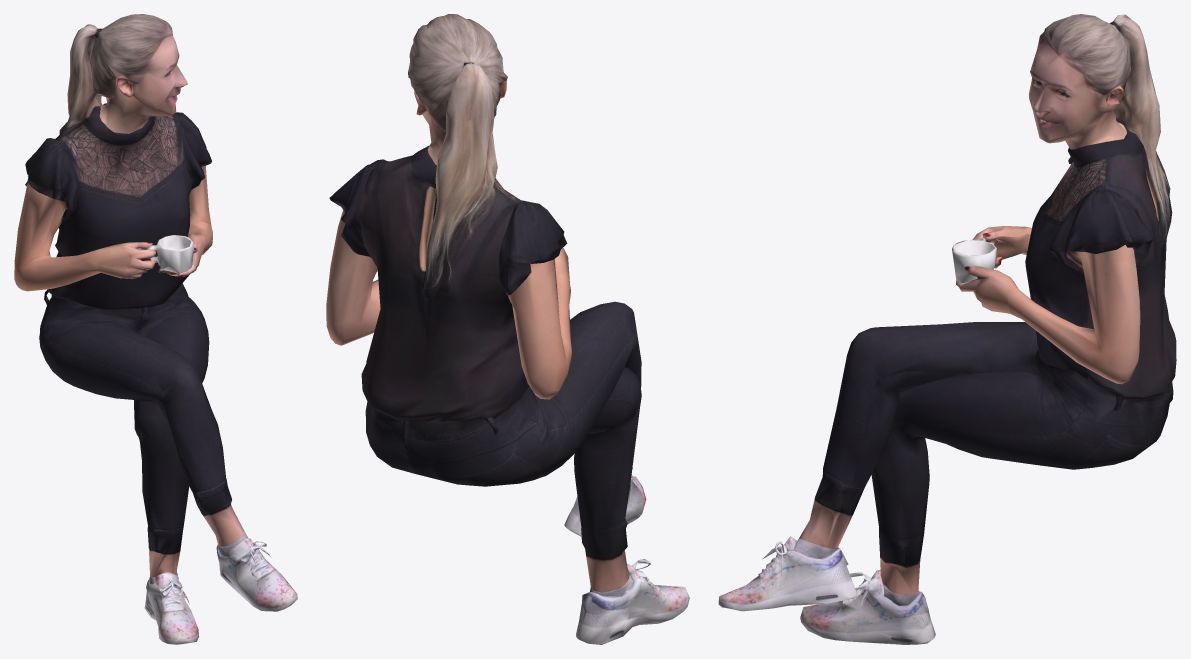
The model's file is seated-scan-2.glb.
3 renders of one model, left to right at view 1: azimuth 30°, elevation 25°; view 2: azimuth 150°, elevation 25°; view 3: azimuth 270°, elevation 25°, orthographic. The views are drawn at different scales.
Parts seen in each view (by area): view 1: seated-scan-2; view 2: seated-scan-2; view 3: seated-scan-2.
Boxes of the visible parts, x1=… form: seated-scan-2: x1=14, y1=14, x2=297, y2=644; seated-scan-2: x1=326, y1=14, x2=689, y2=644; seated-scan-2: x1=718, y1=14, x2=1176, y2=644.
Size of the model in its own units: 0.4874 by 1.31 by 0.8388.
1 material, 1 textured.
